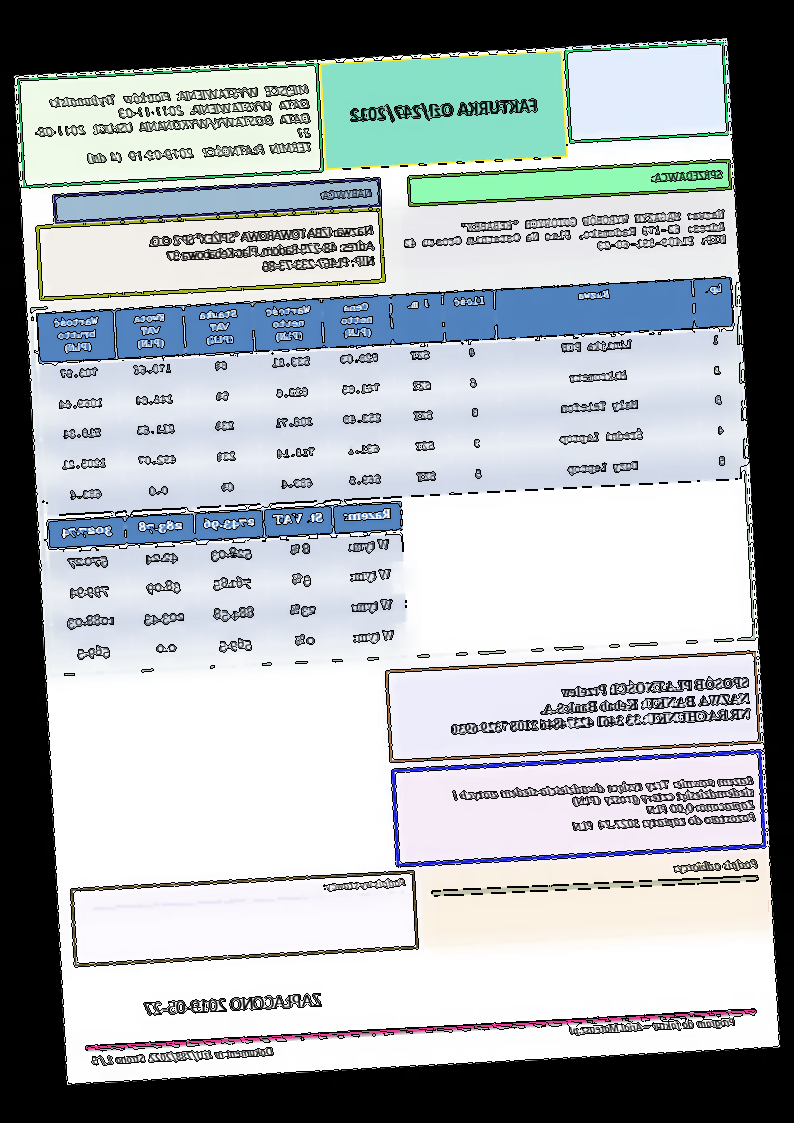Table: (36, 274, 743, 516), (47, 501, 410, 672)
TextBox: (32, 81, 316, 169), (449, 773, 758, 840), (448, 672, 752, 738), (402, 208, 728, 263), (148, 223, 378, 279), (348, 96, 540, 126), (140, 988, 325, 1018), (90, 1044, 276, 1068), (566, 1014, 740, 1038), (673, 857, 761, 875), (322, 876, 407, 893), (650, 167, 725, 186), (319, 185, 375, 204)
